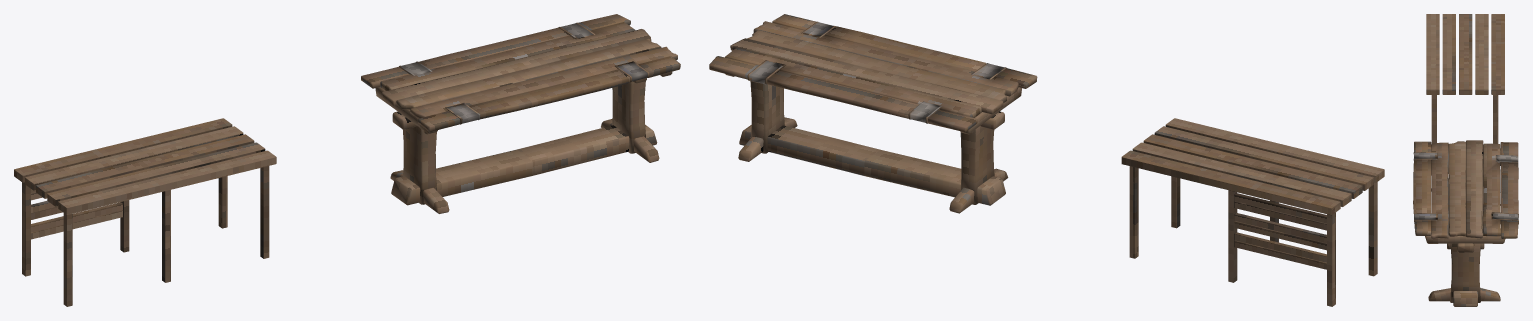
Rendered from tables.fbx.
The picture shows the model from 3 angles, left to right: view 1: azimuth 30°, elevation 25°; view 2: azimuth 150°, elevation 25°; view 3: azimuth 270°, elevation 25°; orthographic projection. The views are drawn at different scales.
Visible parts, largest first — view 1: stol_1, stol_2; view 2: stol_1, stol_2; view 3: stol_1, stol_2.
Part boxes in pixels (x1,y1,x2,y2): stol_1: (361, 14, 680, 213); stol_2: (14, 118, 276, 306); stol_1: (709, 14, 1037, 213); stol_2: (1121, 118, 1384, 306); stol_1: (1413, 140, 1518, 306); stol_2: (1426, 14, 1504, 143).
Bounding box in the file's own units: 1259 × 205 × 253.
